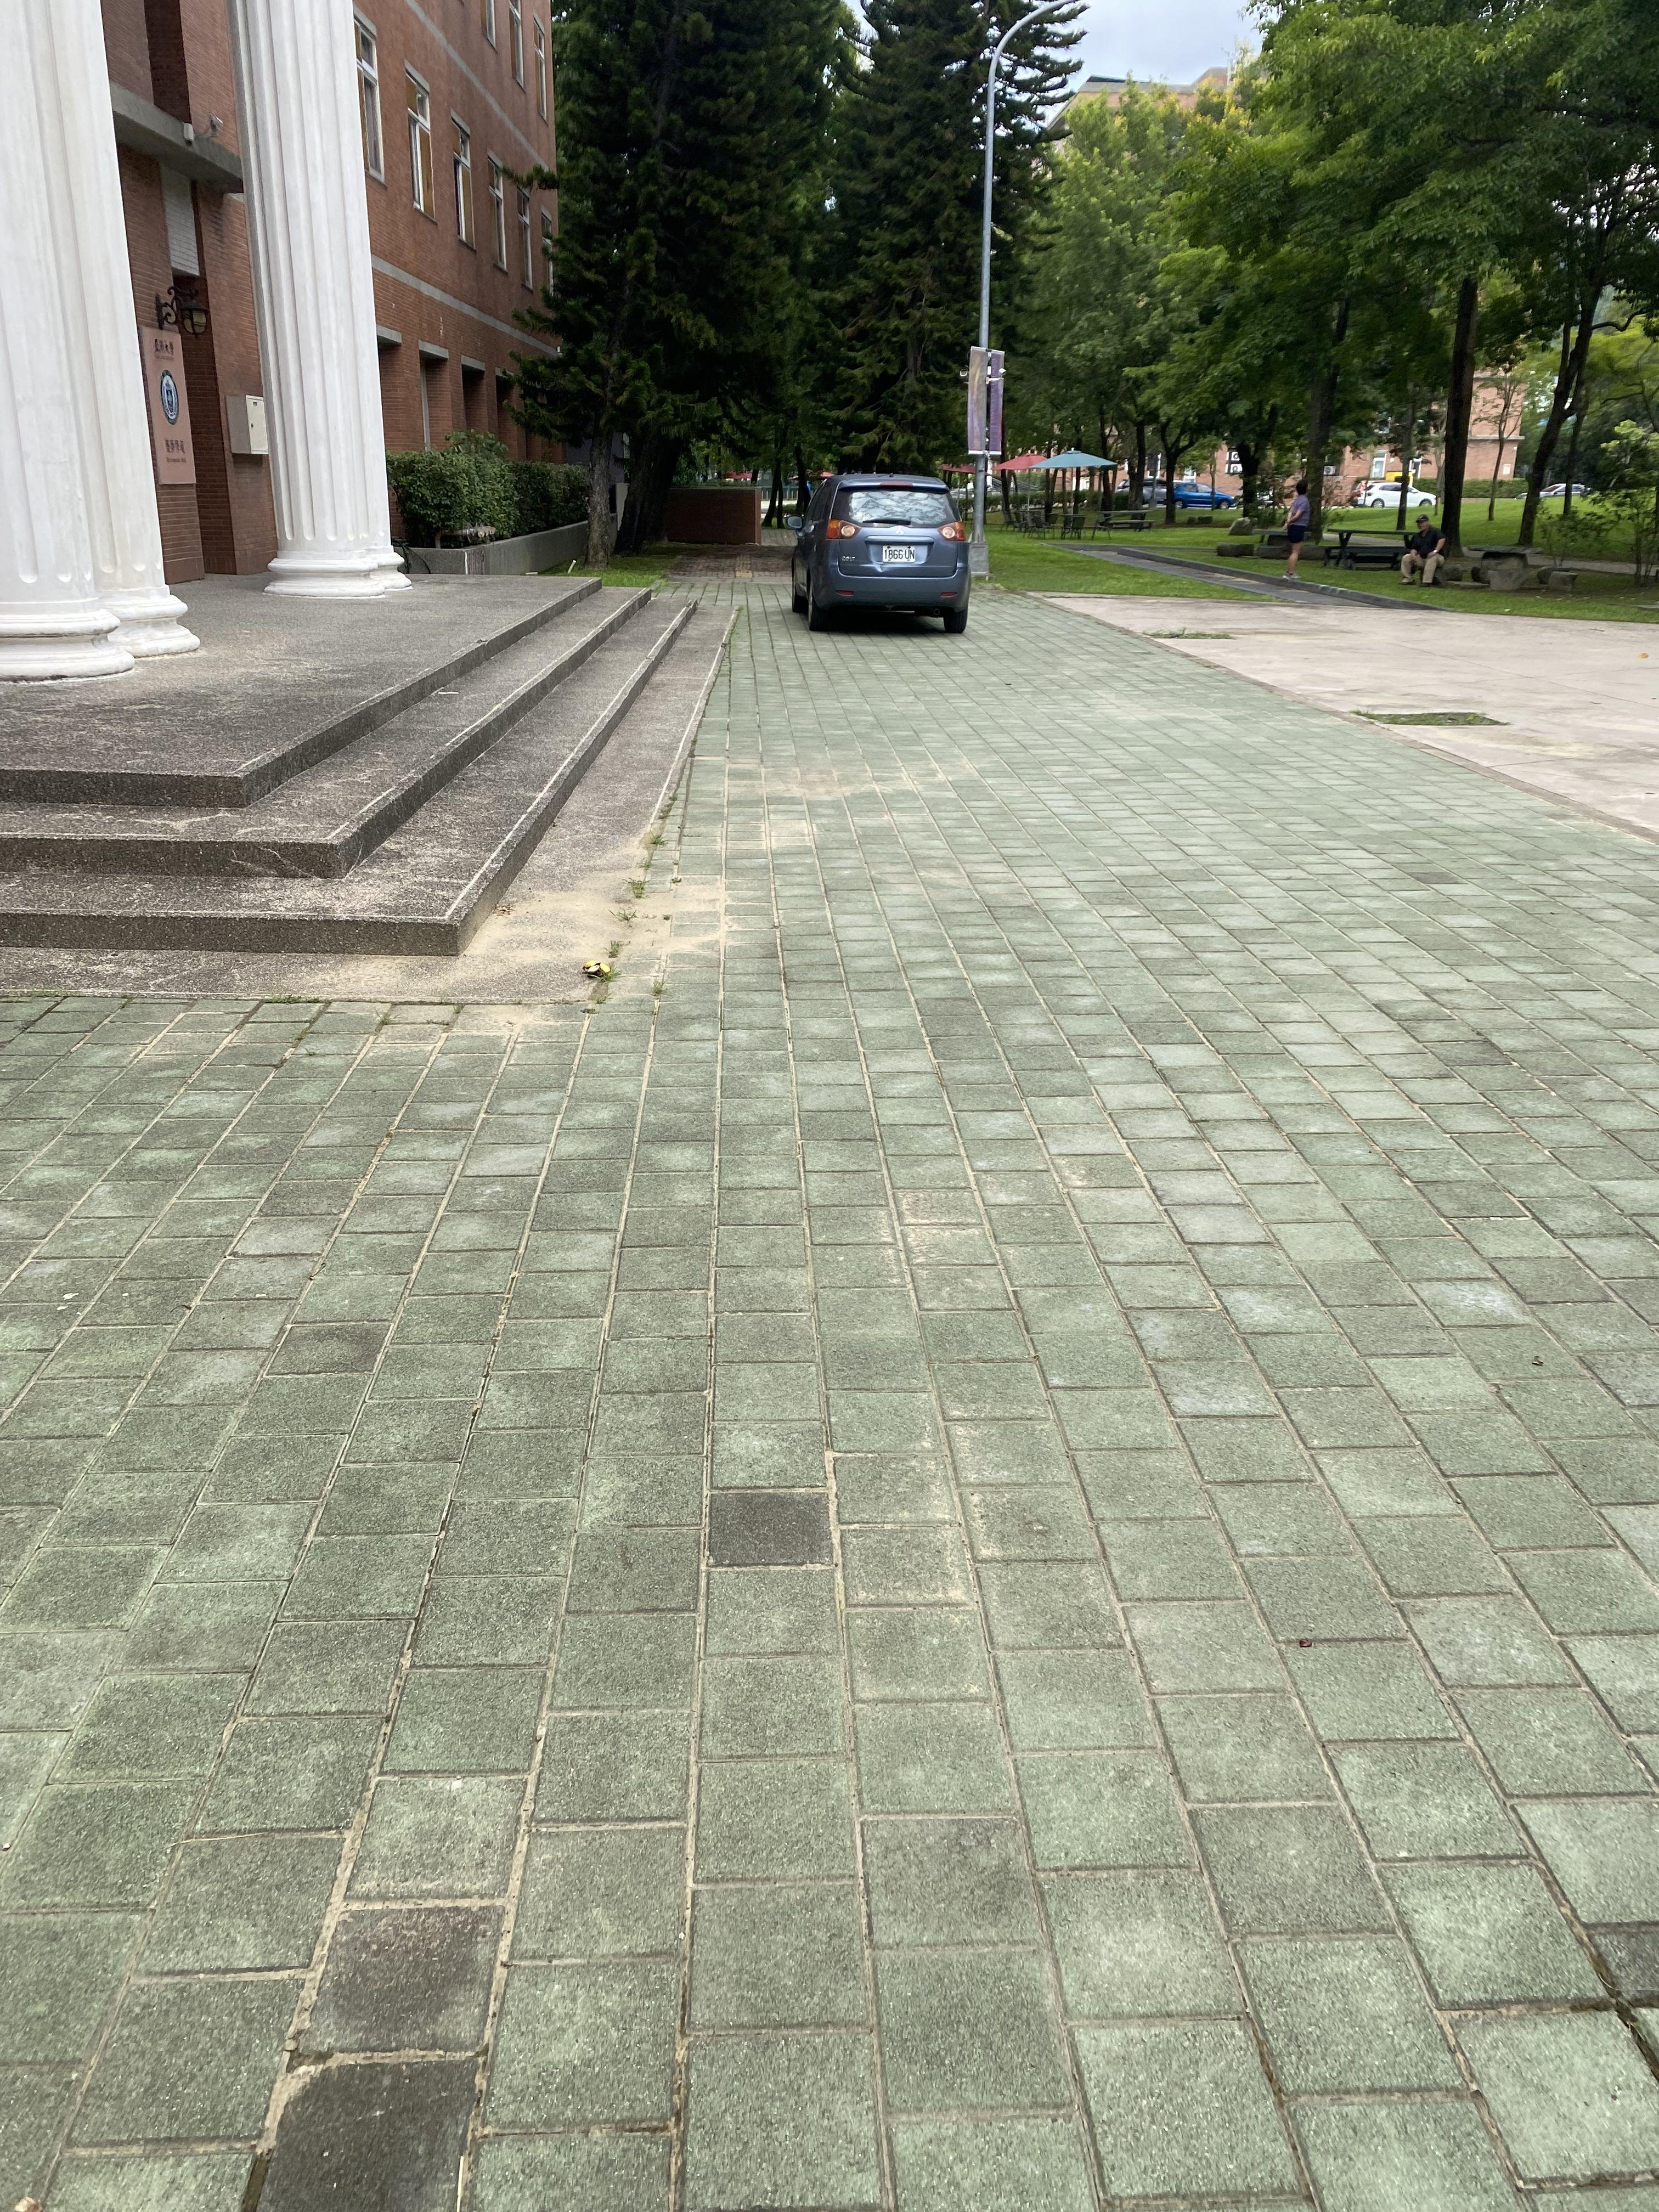sidewalk: (19, 540, 1659, 2212)
